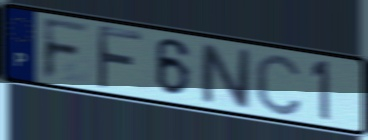1: (308, 58, 335, 123)
6: (152, 37, 194, 100)
C: (252, 51, 304, 118)
F: (40, 16, 92, 84), (95, 23, 145, 92)
N: (197, 40, 253, 112)
